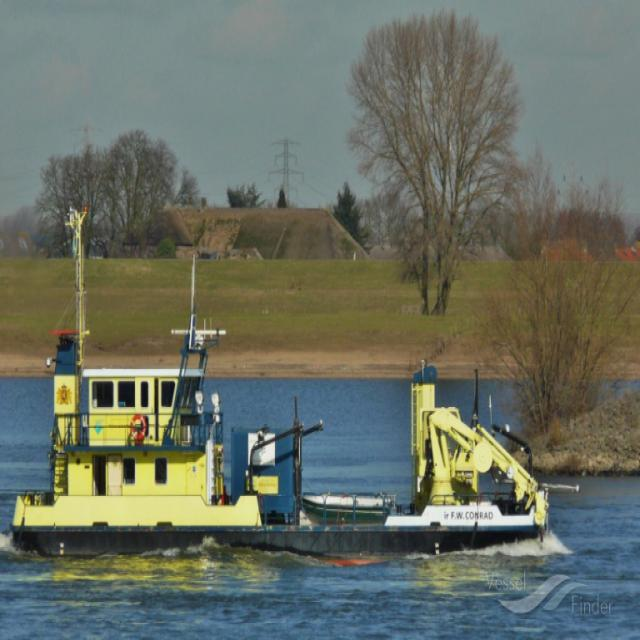OCR: (442, 505, 496, 520)
